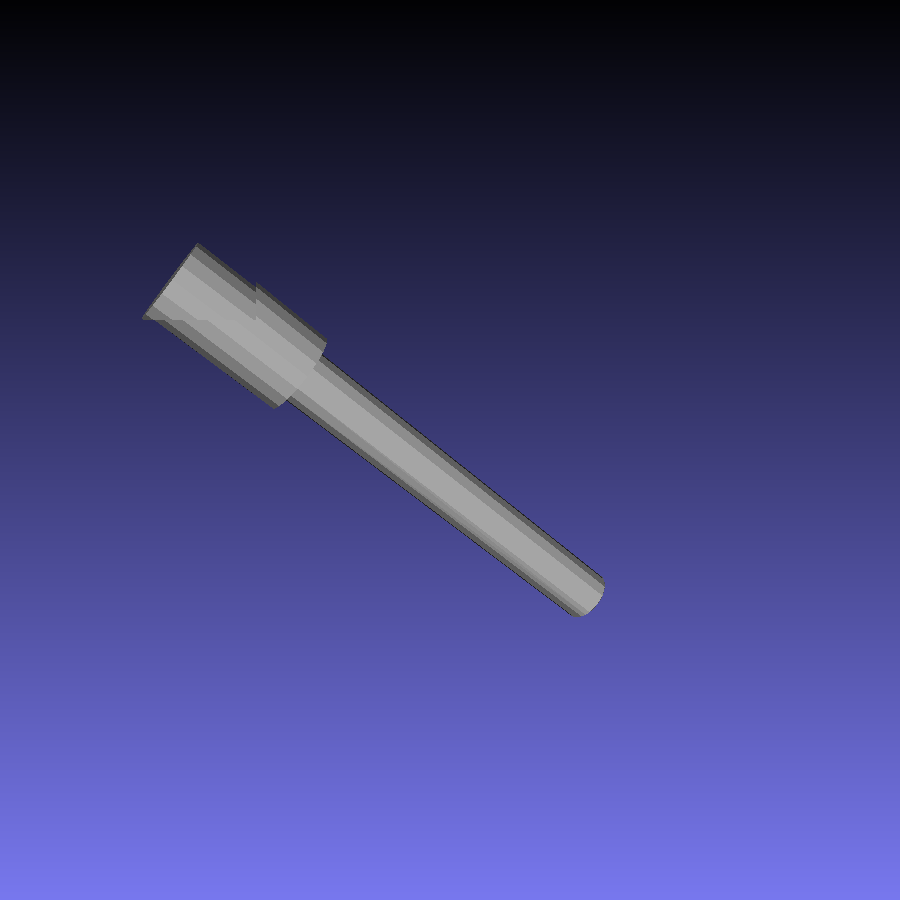cargo_g: (143, 243, 607, 621)
